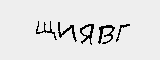В: (98, 22, 115, 46)
Г: (115, 21, 130, 46)
И: (57, 21, 78, 44)
Щ: (30, 18, 56, 39)
Я: (79, 22, 96, 46)
